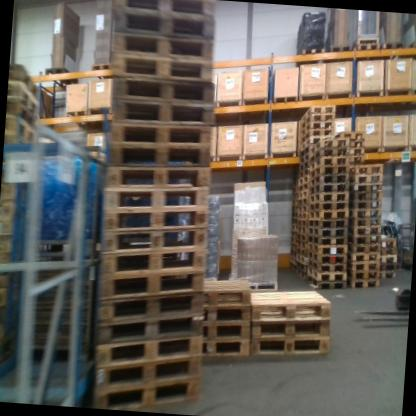forklift: (351, 267, 412, 335)
pallet: (93, 304, 204, 353), (96, 330, 202, 379), (98, 260, 206, 308), (99, 217, 208, 263), (93, 348, 202, 394), (102, 174, 210, 218), (98, 283, 202, 328), (99, 238, 207, 281), (92, 373, 202, 415), (100, 195, 206, 235), (104, 136, 212, 172), (251, 282, 331, 328), (109, 73, 216, 106), (105, 158, 211, 189), (115, 9, 216, 40), (111, 32, 214, 61), (111, 100, 214, 128), (250, 312, 332, 346), (112, 55, 212, 82), (106, 122, 212, 147), (249, 332, 333, 359), (202, 274, 255, 313), (116, 0, 215, 18), (201, 336, 252, 361), (205, 304, 255, 329), (45, 61, 82, 93), (8, 64, 43, 95), (308, 144, 348, 170), (8, 82, 41, 113), (203, 321, 253, 341), (307, 153, 345, 179), (6, 99, 40, 128), (6, 117, 38, 146), (305, 273, 348, 294), (309, 174, 350, 196), (308, 164, 348, 186), (308, 182, 349, 202), (309, 138, 349, 158), (309, 214, 350, 233), (331, 128, 366, 149), (297, 46, 325, 72), (300, 110, 333, 132), (304, 100, 334, 124), (68, 103, 94, 130), (299, 126, 330, 148), (299, 134, 328, 157), (310, 189, 349, 206), (306, 252, 349, 267), (307, 207, 349, 222), (308, 242, 349, 257), (301, 120, 333, 139), (309, 198, 349, 213), (307, 259, 347, 274), (378, 39, 406, 60), (308, 232, 347, 247), (349, 164, 383, 181), (349, 196, 383, 213), (307, 266, 346, 280), (349, 172, 382, 188), (351, 231, 381, 248), (346, 259, 380, 274), (308, 226, 347, 239), (91, 56, 112, 80), (346, 242, 380, 256), (333, 147, 363, 162), (350, 207, 382, 221), (348, 187, 382, 200), (350, 216, 380, 230), (353, 41, 380, 56), (349, 224, 380, 237), (348, 269, 379, 282), (348, 253, 380, 265), (349, 181, 382, 192), (337, 139, 363, 151), (340, 156, 364, 169), (329, 43, 353, 54), (297, 182, 310, 197), (297, 175, 310, 189), (300, 146, 312, 161), (294, 268, 309, 280), (298, 167, 310, 182), (298, 158, 310, 173), (298, 155, 311, 168), (379, 263, 397, 272), (378, 272, 396, 281), (297, 197, 309, 210), (297, 190, 309, 203), (297, 202, 308, 216), (295, 235, 309, 245), (380, 256, 397, 264), (378, 250, 397, 257), (295, 248, 308, 258), (296, 213, 310, 222), (409, 38, 416, 55), (295, 255, 308, 264), (294, 262, 306, 271), (298, 219, 310, 228), (295, 240, 308, 248), (297, 227, 309, 235)
